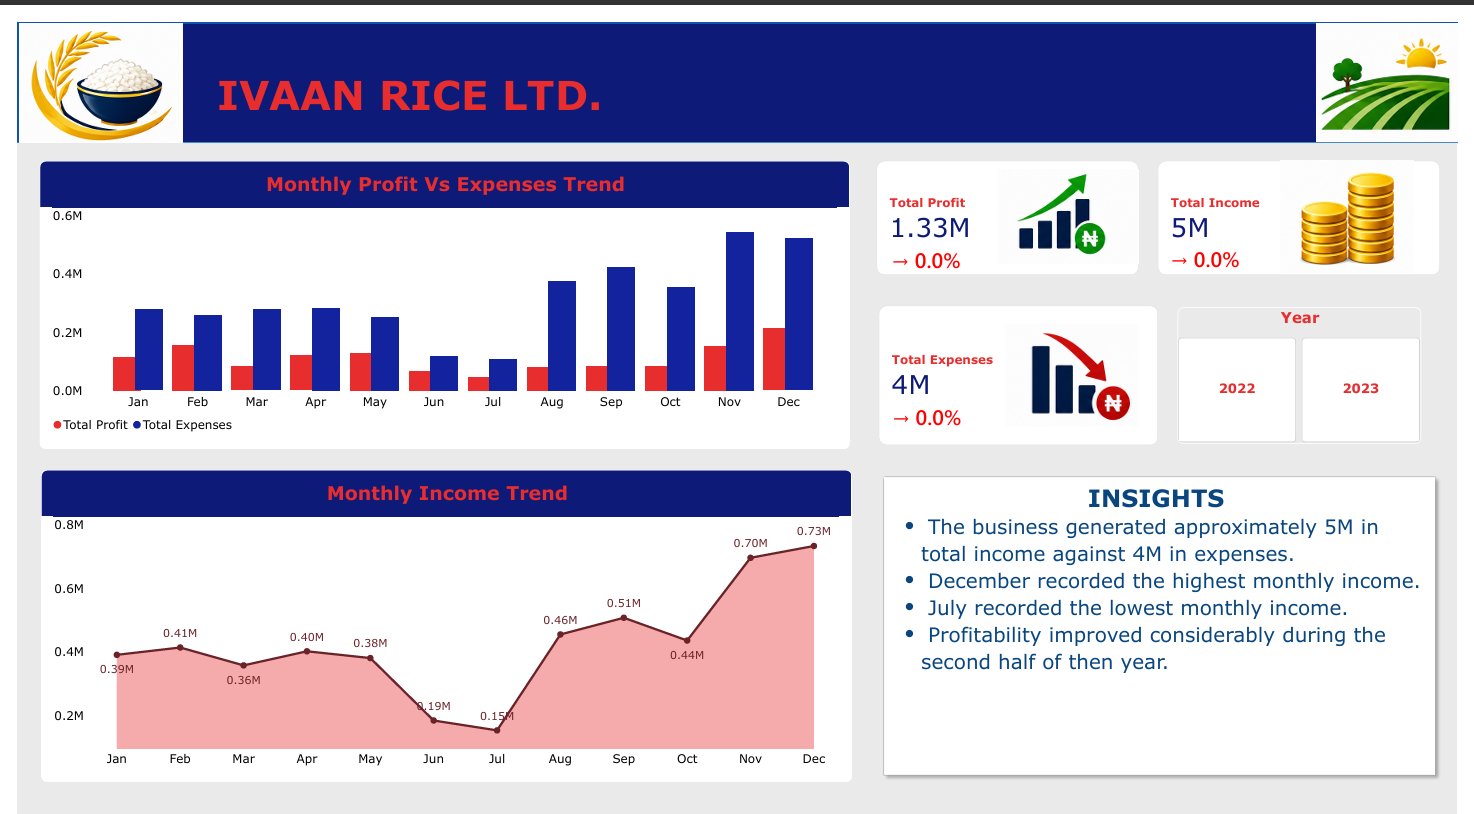

Layout of this report page (visuals, bound fields, positions):
{"tool":"powerbi","page":{"name":"Page 1","canvas":[1920,1080],"ordinal":0},"visuals":[{"type":"shape","box":[0,0,1920.7,159.9],"z":0},{"type":"cardVisual","fields":{"Data":["Calculation.Total Profit"]},"box":[1145.2,183.7,349.4,152],"z":0,"group":"g2"},{"type":"cardVisual","fields":{"Data":["Calculation.Total Income"]},"box":[1519.8,183.7,377,152.7],"z":0,"group":"g1"},{"type":"cardVisual","fields":{"Data":["Calculation.Total Expenses"]},"box":[1147.6,377,372.2,186.1],"z":0,"group":"g3"},{"type":"clusteredColumnChart","title":"Monthly Profit Vs Expenses Trend","fields":{"Category":["Date_Table.Month"],"Y":["Calculation.Total Profit","Calculation.Total Expenses"]},"box":[28.6,183.7,1080.8,384.1],"z":1000},{"type":"cardVisual","fields":{"Data":["Calculation.Profit Trend"]},"box":[1147.8,293.6,130.5,42.8],"z":1000,"group":"g2"},{"type":"cardVisual","fields":{"Data":["Calculation.Expenses Trend"]},"box":[1148.5,489.2,155.1,71.6],"z":1000,"group":"g3"},{"type":"cardVisual","fields":{"Data":["Calculation.Income Trend"]},"box":[1519.8,291.1,188.5,45.3],"z":2008,"group":"g1"},{"type":"group","id":"g1","title":"Group 2","box":[1519.8,183.7,377,152.7],"z":3000},{"type":"group","id":"g2","title":"Group 3","box":[1145.2,183.7,348.3,152.7],"z":4000},{"type":"areaChart","title":"Monthly Income Trend","fields":{"Category":["Date_Table.Month"],"Y":["Calculation.Total Income"]},"box":[31,596.5,1080.8,415.1],"z":5000},{"type":"shape","box":[1145.2,596.5,753.9,415.1],"z":6000},{"type":"advancedSlicerVisual","fields":{"Values":["Date_Table.Year"]},"box":[1546.1,379.4,324.5,181.3],"z":7000},{"type":"textbox","box":[264.8,62,544,71.6],"z":8000},{"type":"image","box":[0,0,221.9,159.9],"z":9000},{"type":"image","box":[1732.2,0,188.5,159.9],"z":10000},{"type":"image","box":[1643.9,183.7,255.3,150.3],"z":10002},{"type":"group","id":"g3","title":"Group 1","box":[1147.6,377,372.2,186.1],"z":10003},{"type":"image","box":[1317,377,176.6,186.1],"z":10004},{"type":"image","box":[1307.5,183.7,186.1,150.3],"z":10005},{"type":"textbox","box":[1164.3,613.2,706.2,381.7],"z":10006}]}

Visuals, with their boxes in screenshot pixels (x1, y1, x2, y2), scaled from the page's 1920x1080 canvas onto the 1474x814 screenshot:
shape: x1=0, y1=0, x2=1473, y2=121
cardVisual - Calculation.Total Profit: x1=879, y1=138, x2=1147, y2=253
cardVisual - Calculation.Total Income: x1=1167, y1=138, x2=1456, y2=254
cardVisual - Calculation.Total Expenses: x1=881, y1=284, x2=1167, y2=424
"Monthly Profit Vs Expenses Trend" clusteredColumnChart: x1=22, y1=138, x2=852, y2=428
cardVisual - Calculation.Profit Trend: x1=881, y1=221, x2=981, y2=254
cardVisual - Calculation.Expenses Trend: x1=882, y1=369, x2=1001, y2=423
cardVisual - Calculation.Income Trend: x1=1167, y1=219, x2=1311, y2=254
"Group 2" group: x1=1167, y1=138, x2=1456, y2=254
"Group 3" group: x1=879, y1=138, x2=1147, y2=254
"Monthly Income Trend" areaChart: x1=24, y1=450, x2=854, y2=762
shape: x1=879, y1=450, x2=1458, y2=762
advancedSlicerVisual - Date_Table.Year: x1=1187, y1=286, x2=1436, y2=423
textbox: x1=203, y1=47, x2=621, y2=101
image: x1=0, y1=0, x2=170, y2=121
image: x1=1330, y1=0, x2=1473, y2=121
image: x1=1262, y1=138, x2=1458, y2=252
"Group 1" group: x1=881, y1=284, x2=1167, y2=424
image: x1=1011, y1=284, x2=1147, y2=424
image: x1=1004, y1=138, x2=1147, y2=252
textbox: x1=894, y1=462, x2=1436, y2=750
